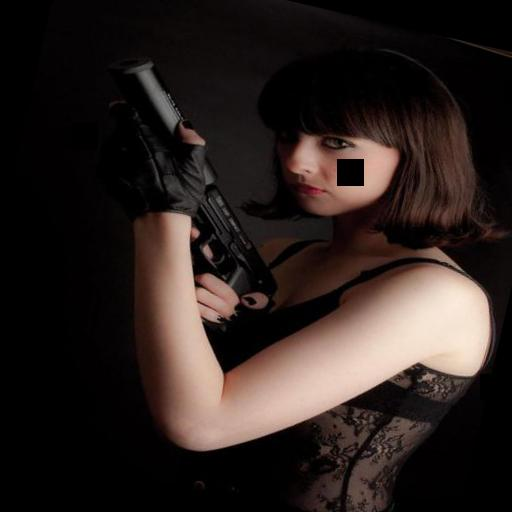Handgun: (46, 45, 320, 336)
